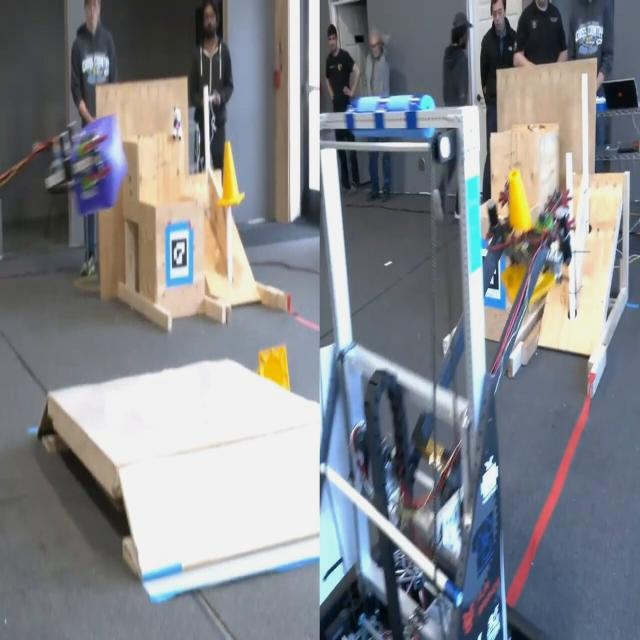frc_cone: (494, 161, 556, 300), (214, 140, 244, 212), (252, 342, 293, 394)
frc_cube: (67, 119, 125, 212)
